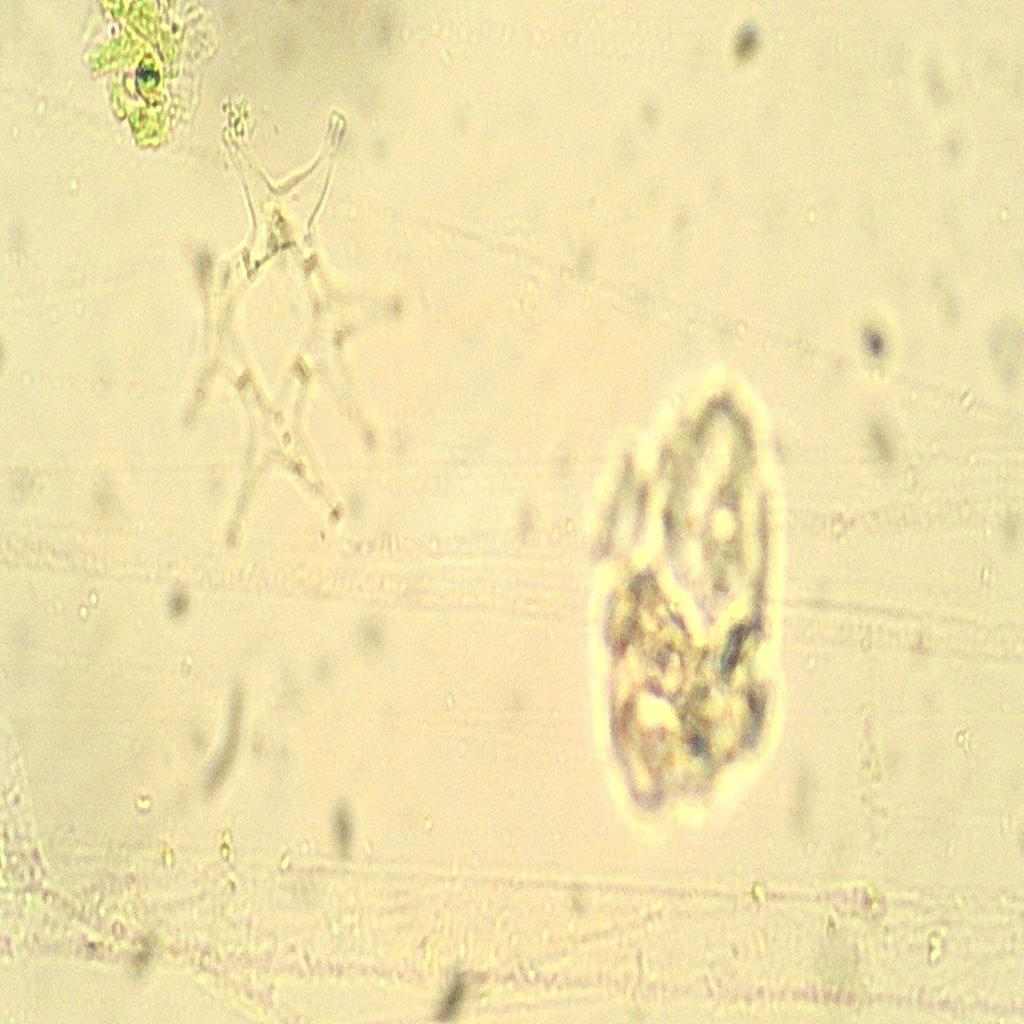Pediastrum_1F0: (157, 80, 414, 611)
